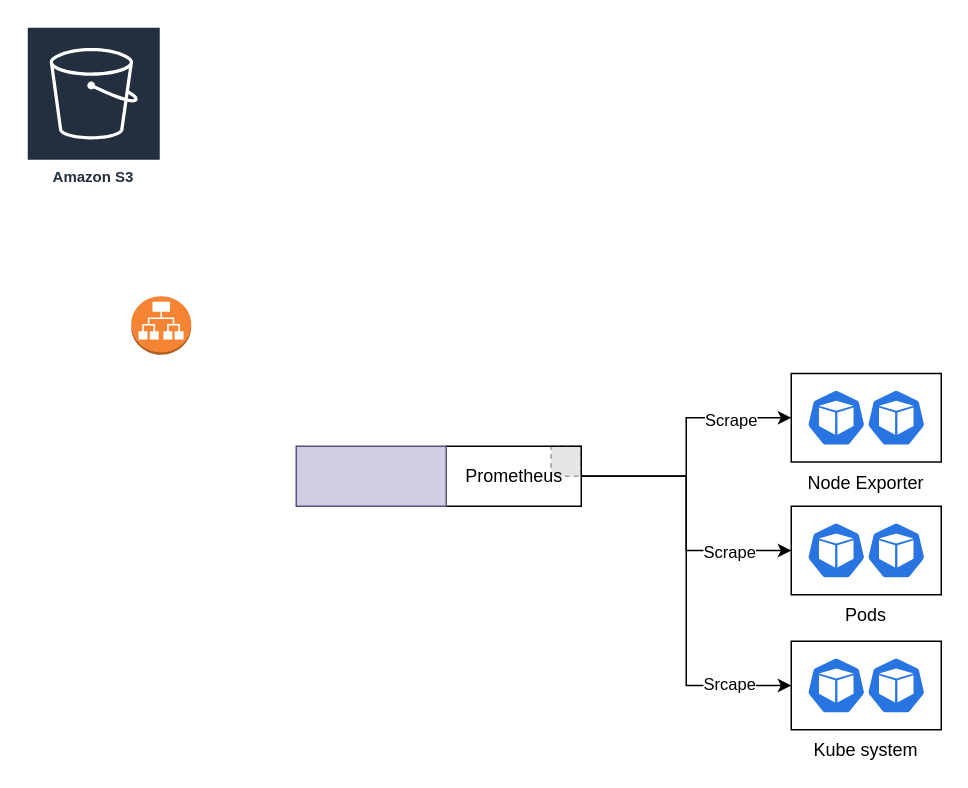
Image size: 968x788. Some labels were removed from this diagram. Grey dashed boxes stand in for pictures. The centre of each missing label's shape, as x and y in pixels:
"ALB" goes at (x=160, y=325).
"Thanos sidecar" goes at (x=370, y=475).
